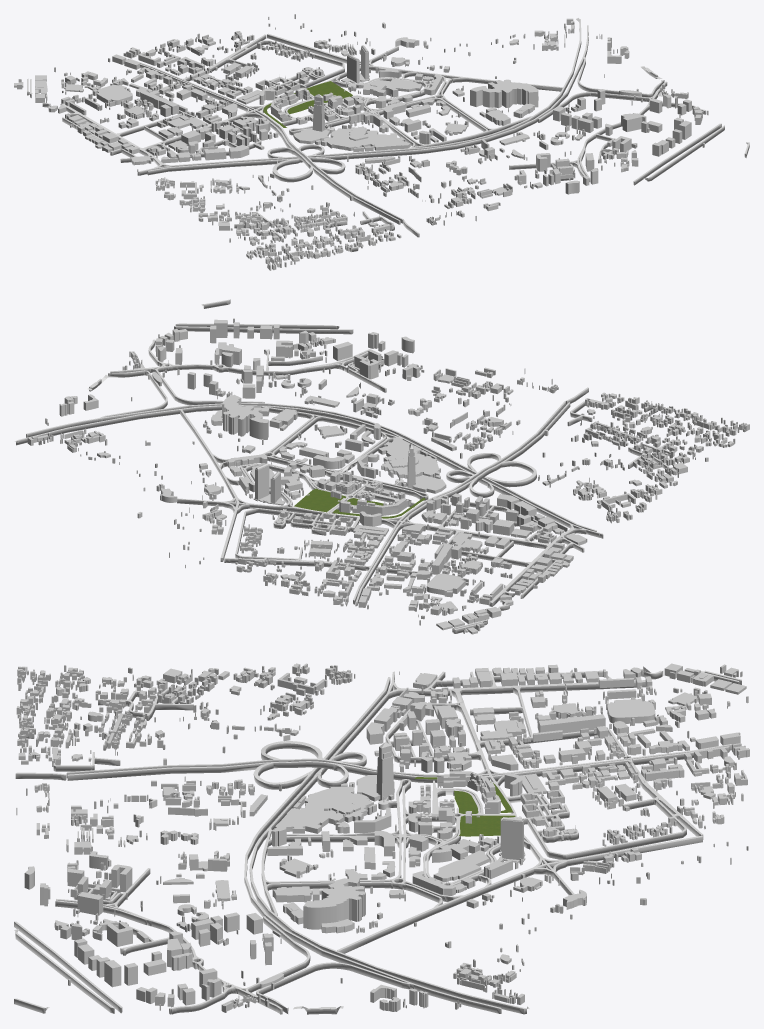
Rendered from Clinic_mini_map.glb.
The picture shows the model from 3 angles, top to bottom: view 1: azimuth 30°, elevation 25°; view 2: azimuth 150°, elevation 25°; view 3: azimuth 270°, elevation 25°; orthographic projection. The views are drawn at different scales.
Parts seen in each view (by area): view 1: Build, road, tree; view 2: Build, road, tree; view 3: Build, road, tree.
Boxes of the visible parts, box(x1,y1,x2,y2) form: Build: box(14, 14, 708, 270); road: box(27, 18, 749, 252); tree: box(263, 81, 352, 127); Build: box(27, 318, 749, 634); road: box(14, 299, 674, 633); tree: box(294, 488, 425, 518); Build: box(16, 663, 749, 1012); road: box(14, 666, 741, 1014); tree: box(414, 777, 515, 836).
Size of what is drawn, in the model's own units: 3092 by 244 by 2803.
Materials: 3 (1 with a texture image).
